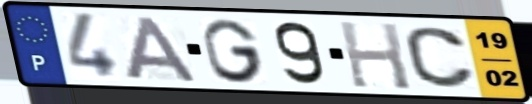4: (65, 9, 121, 83)
9: (271, 20, 327, 86)
A: (123, 14, 201, 83)
C: (402, 25, 479, 90)
G: (200, 17, 268, 85)
H: (335, 19, 415, 92)
